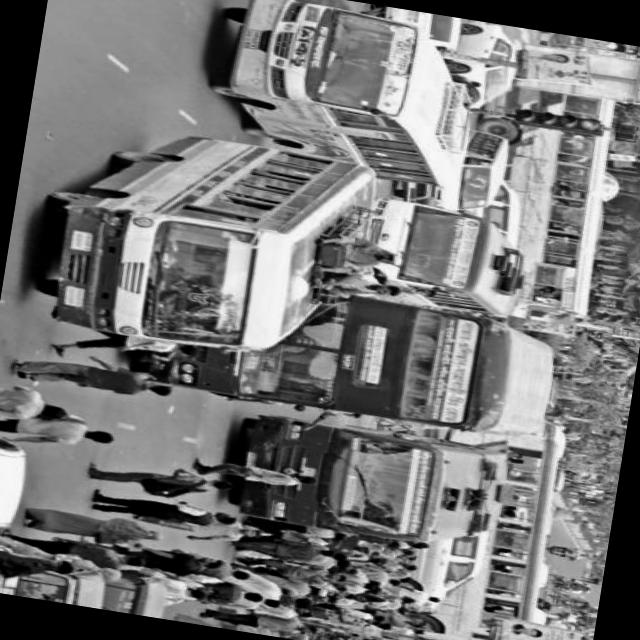bus: (26, 112, 388, 374), (127, 261, 568, 444), (196, 0, 490, 193), (223, 404, 520, 556), (476, 80, 626, 320), (360, 192, 538, 320)
motorcycle: (0, 549, 113, 608), (105, 564, 177, 618), (546, 573, 594, 598), (546, 588, 595, 612), (550, 544, 598, 565)
